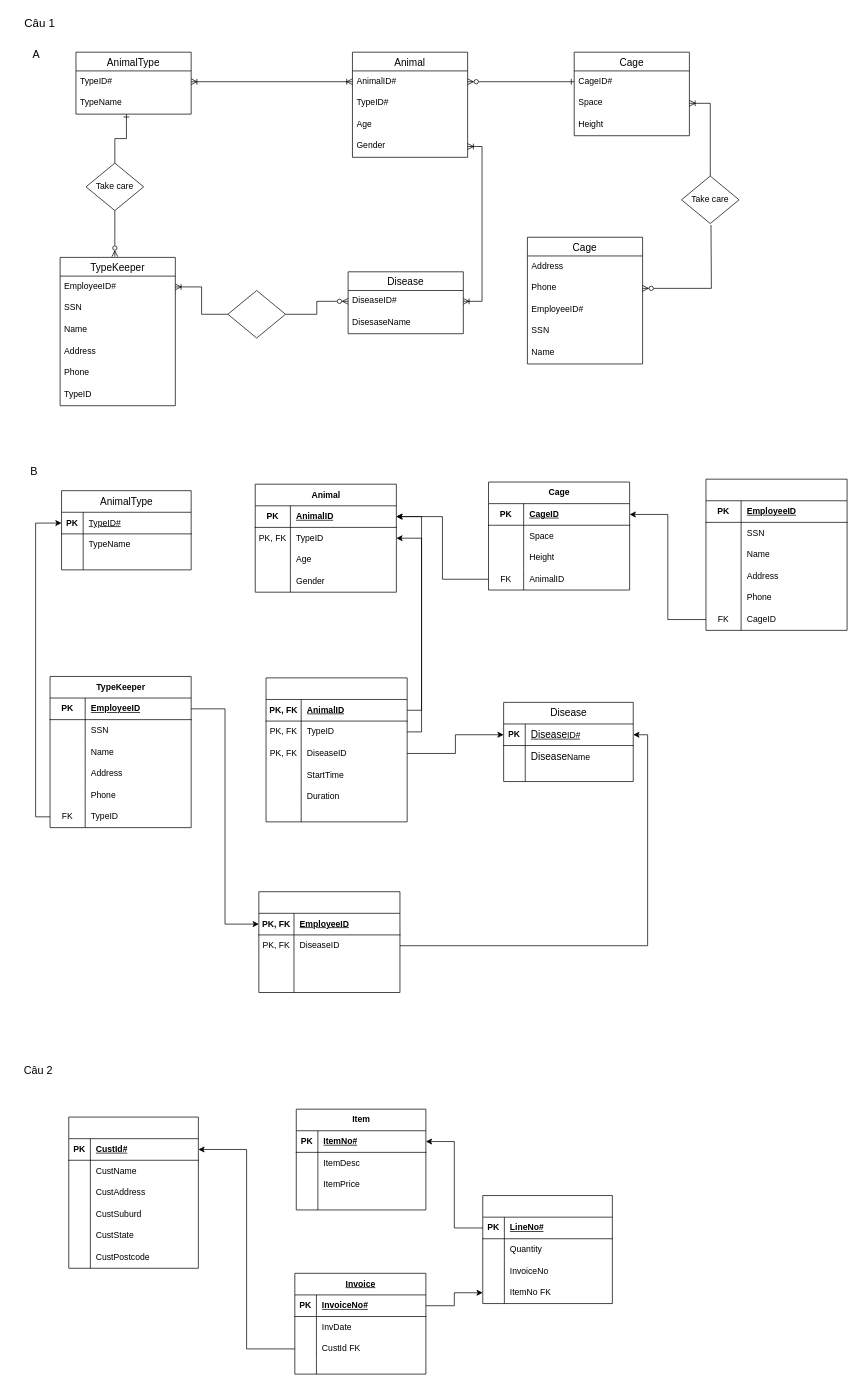
This 860x1387 diagram has some shape labels left out. Each missing label, with the box of its shape:
Animal_Disease: (265, 677, 407, 822)
CageKeeper: (705, 478, 847, 630)
Customer: (68, 1116, 198, 1268)
Handle: (227, 290, 285, 338)
InvoiceItem: (482, 1195, 612, 1304)
TypeKeeper_Disase: (258, 891, 400, 993)
